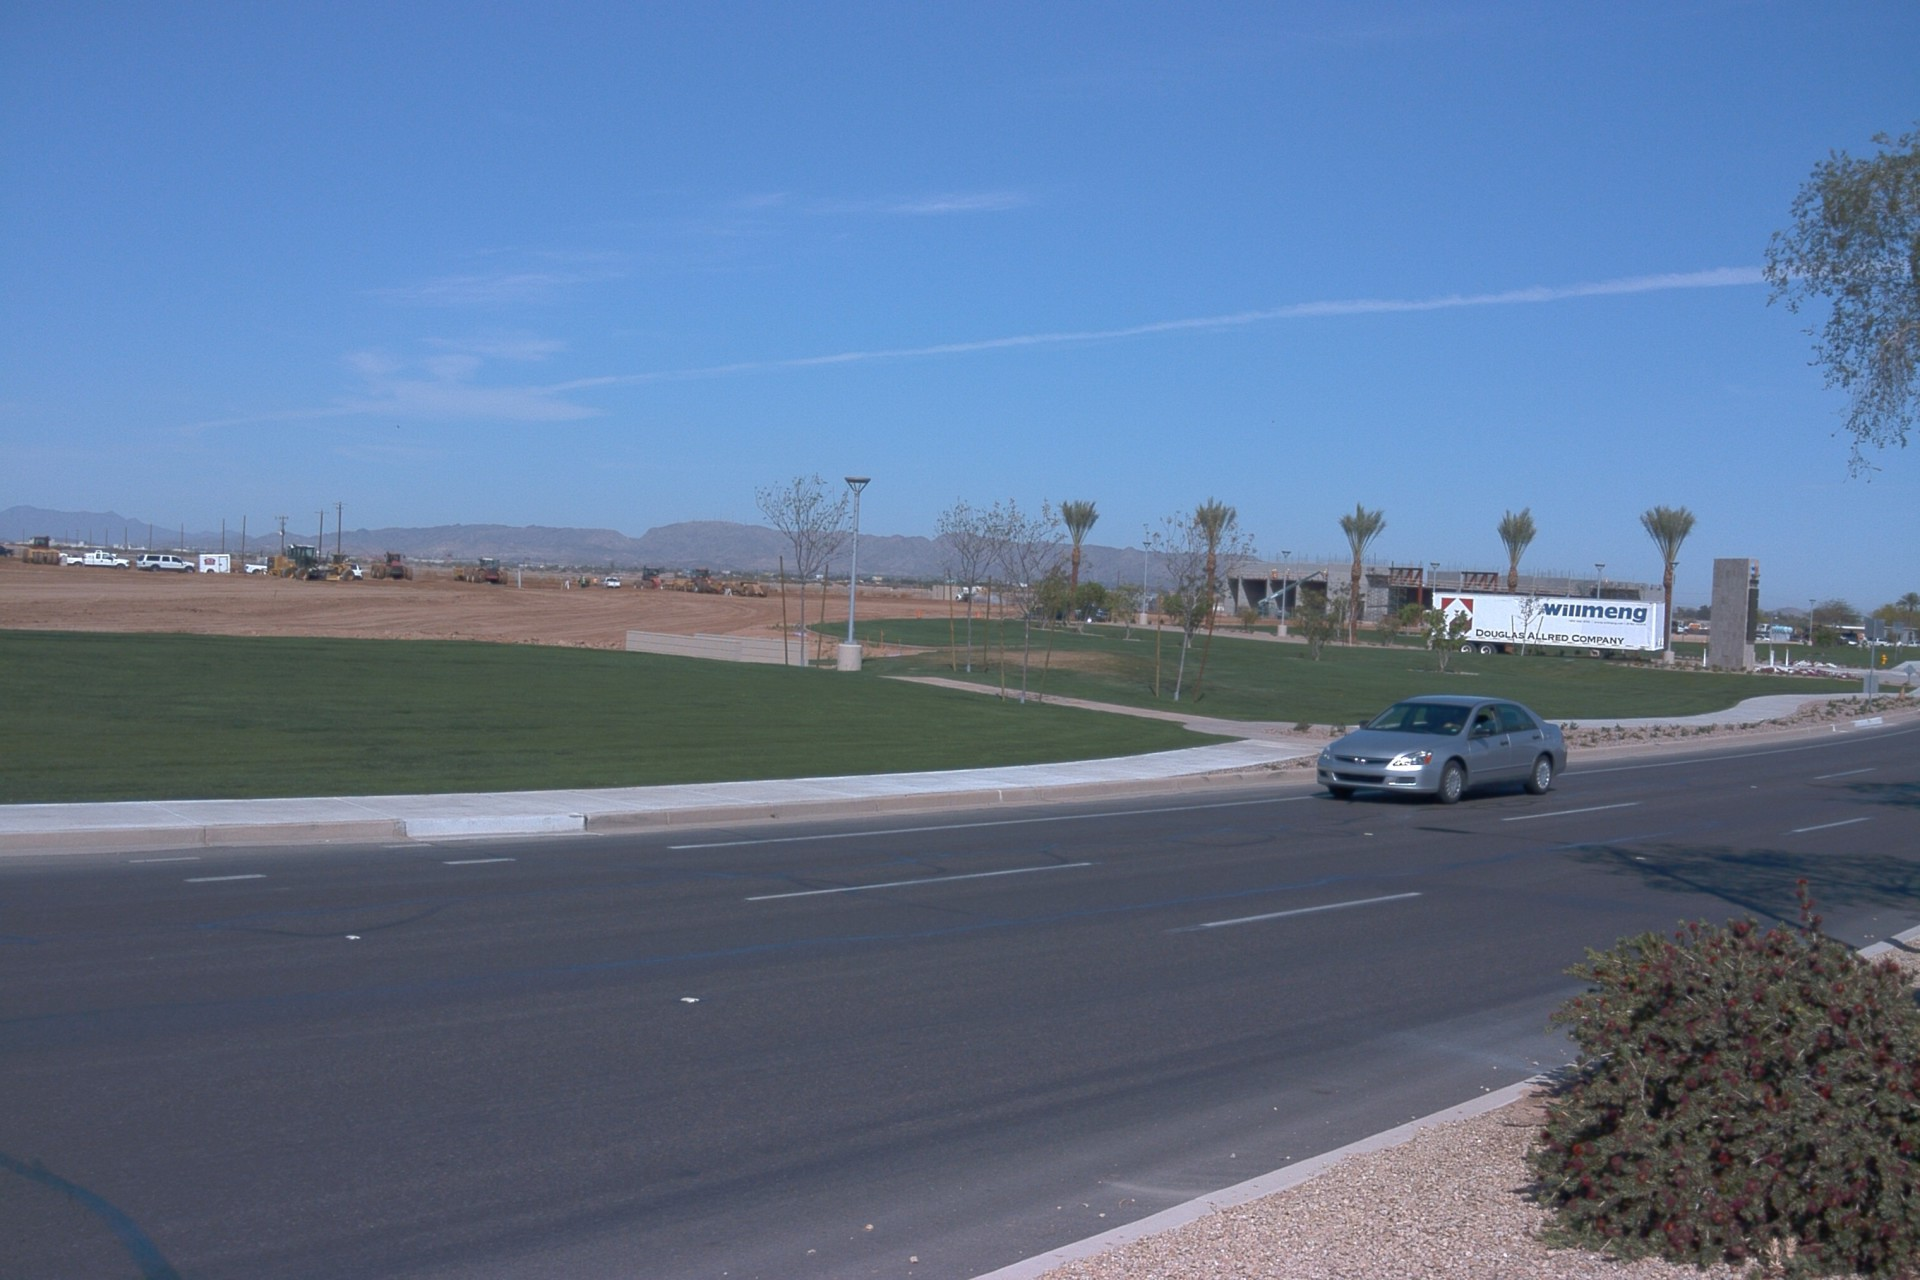TYPE_PEDESTRIAN: (1029, 601, 1038, 620), (578, 573, 586, 589), (591, 577, 597, 588)
TYPE_VEHICLE: (1316, 695, 1569, 807), (1426, 589, 1676, 662), (255, 543, 358, 586), (1258, 565, 1332, 615), (1024, 593, 1114, 617), (453, 555, 509, 587), (368, 549, 414, 581), (66, 554, 131, 573), (137, 555, 198, 574), (947, 582, 991, 602), (194, 555, 236, 575), (246, 558, 268, 574), (332, 555, 351, 572), (344, 566, 361, 584), (607, 575, 625, 589), (86, 549, 121, 556), (52, 522, 68, 535), (0, 541, 14, 555)
